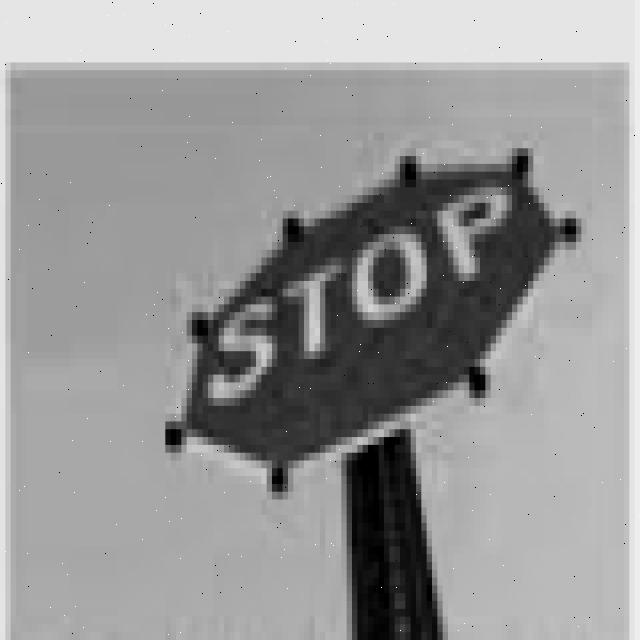Stop-signs: (169, 162, 565, 488)
